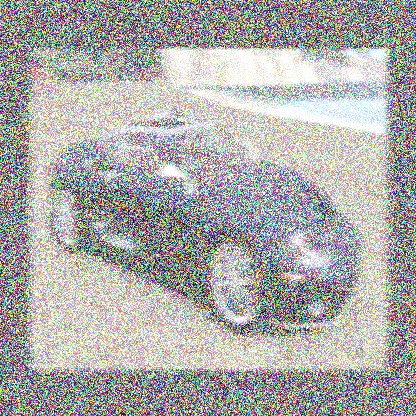Vehicle: (48, 104, 366, 342)
